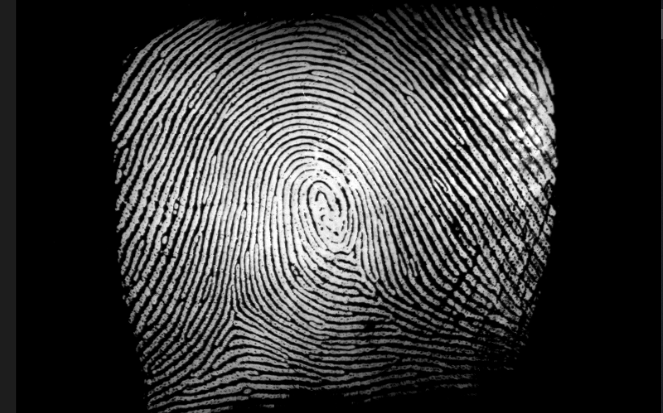nucelo: (303, 180, 337, 227)
verticilo: (216, 305, 258, 338), (343, 252, 371, 273)
